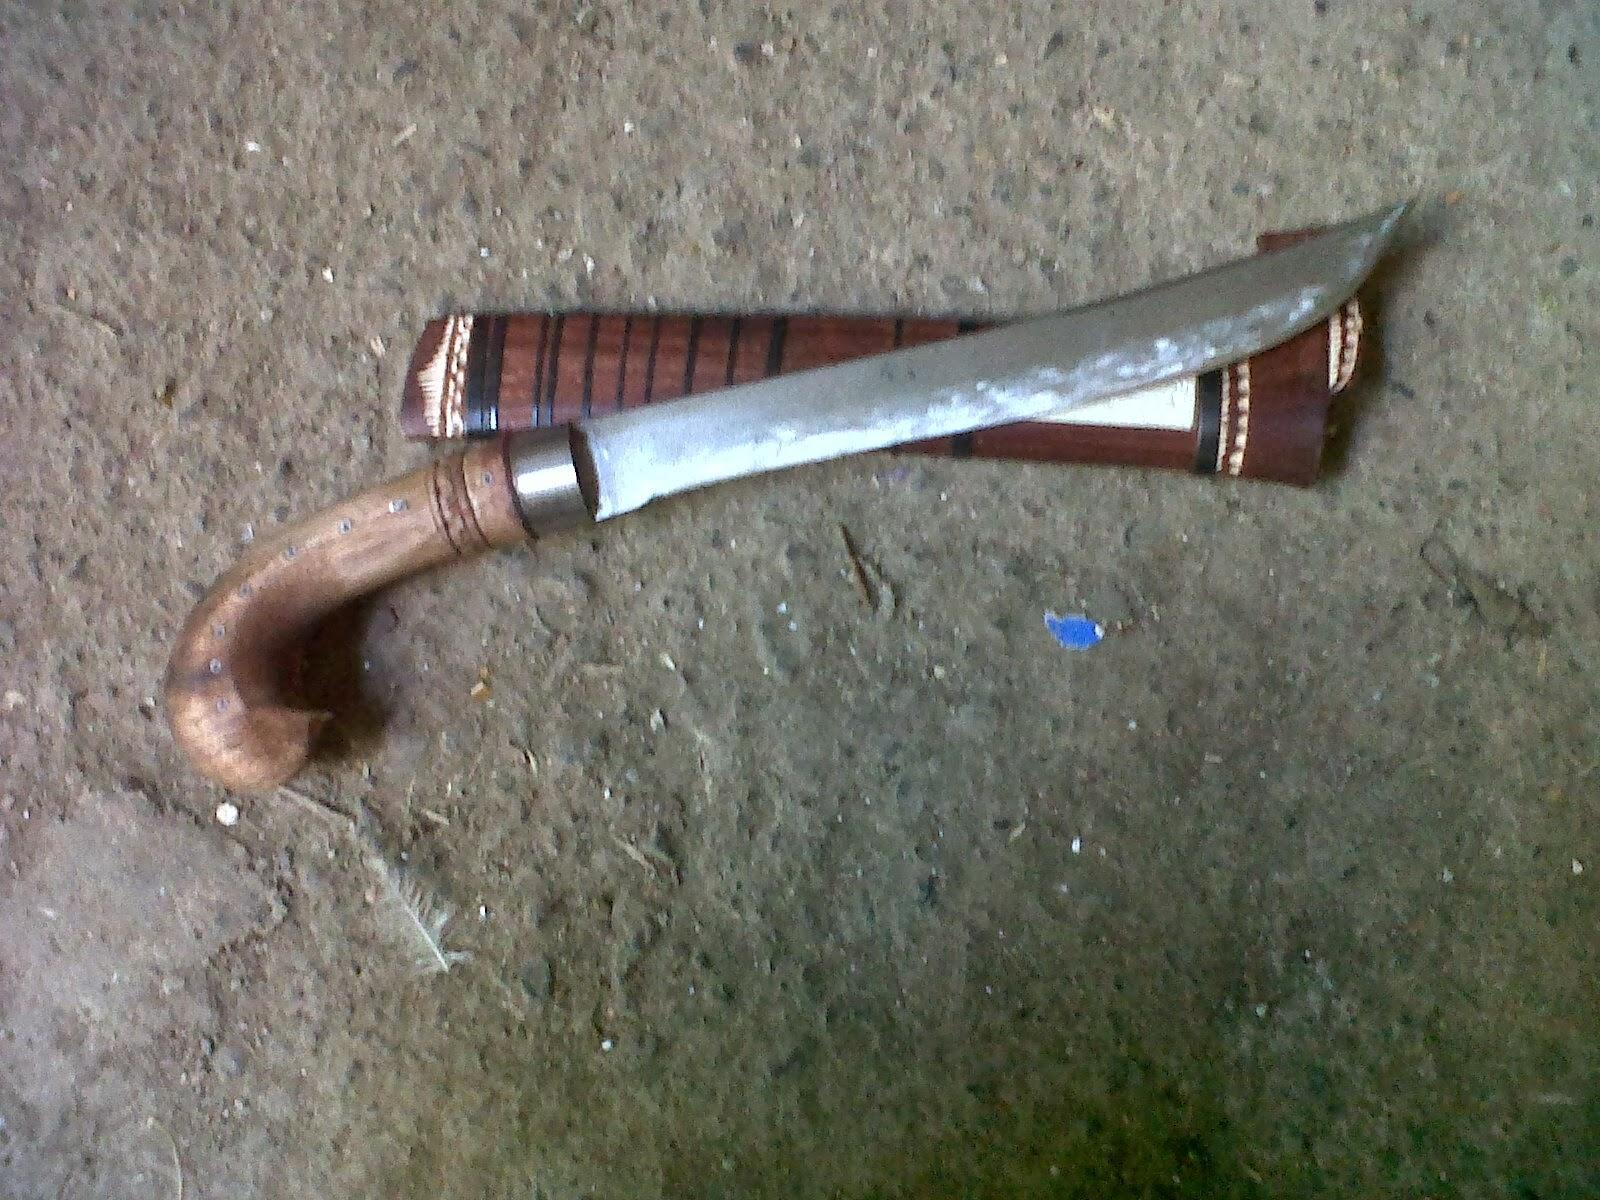espada: (165, 205, 1401, 785)
